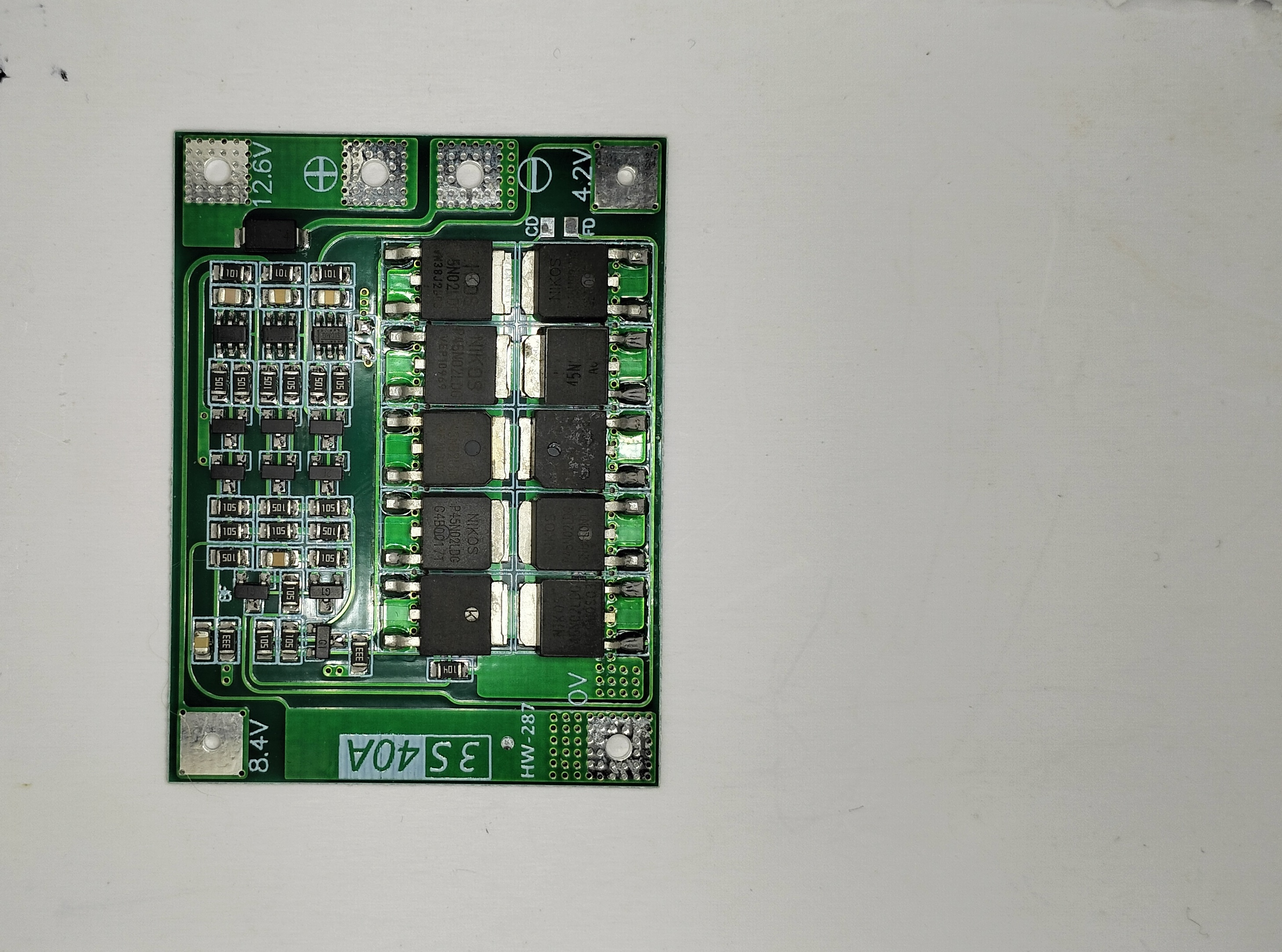C: (259, 287, 302, 309), (309, 287, 351, 309), (206, 286, 249, 307), (261, 548, 303, 569), (192, 619, 212, 663)
R 105: (208, 549, 254, 570), (306, 548, 353, 568), (255, 624, 279, 663), (278, 623, 302, 662), (257, 522, 303, 542), (330, 369, 354, 407), (306, 364, 330, 402), (281, 366, 305, 404), (256, 364, 280, 402), (230, 359, 254, 397), (278, 577, 302, 615), (257, 497, 300, 518), (306, 522, 350, 542), (308, 498, 351, 518), (208, 497, 250, 517), (209, 523, 251, 541)
R EEE: (348, 633, 372, 676), (216, 619, 240, 659)
R101: (210, 261, 256, 281), (312, 263, 358, 283), (260, 262, 306, 282)
R104: (426, 658, 473, 681), (207, 367, 231, 405)
diode: (226, 213, 319, 259)
ic 1: (386, 234, 517, 319), (523, 239, 654, 324), (381, 403, 512, 488), (520, 408, 651, 493), (516, 490, 647, 575), (380, 486, 511, 571), (378, 571, 509, 655), (519, 327, 650, 411), (384, 315, 515, 399), (514, 572, 645, 656)
ic 2: (208, 311, 249, 357), (305, 313, 346, 359), (257, 314, 298, 360)
transitor: (308, 451, 348, 493), (307, 407, 347, 449), (262, 408, 302, 450), (260, 451, 300, 493), (209, 450, 249, 492), (210, 404, 250, 446), (304, 621, 344, 663), (232, 572, 272, 613), (306, 572, 346, 613)
